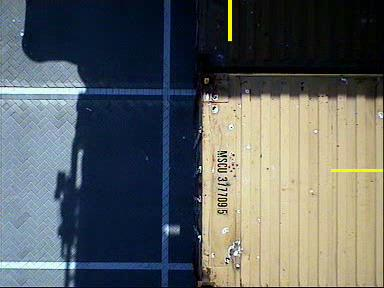groundmarker_2: (136, 29, 216, 80), (134, 162, 213, 213)
